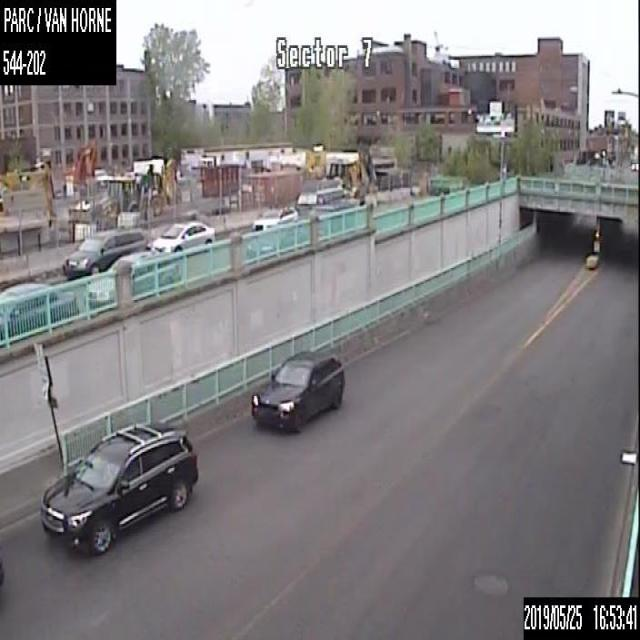vehicle: (38, 424, 199, 559), (248, 349, 346, 432), (86, 248, 181, 312), (0, 280, 77, 342), (62, 227, 146, 278), (247, 220, 310, 257), (150, 220, 214, 252), (311, 201, 356, 236), (252, 204, 298, 231)
